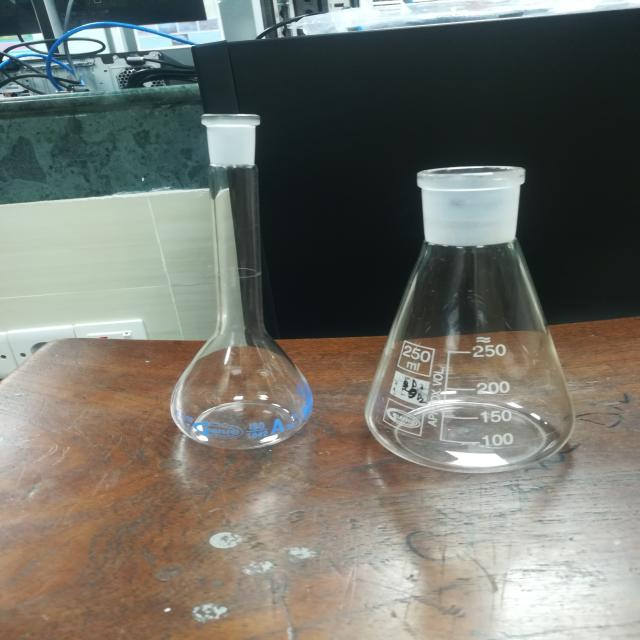Conical_Flask: (351, 152, 602, 480)
Volumetric_Flask: (112, 96, 323, 466)
